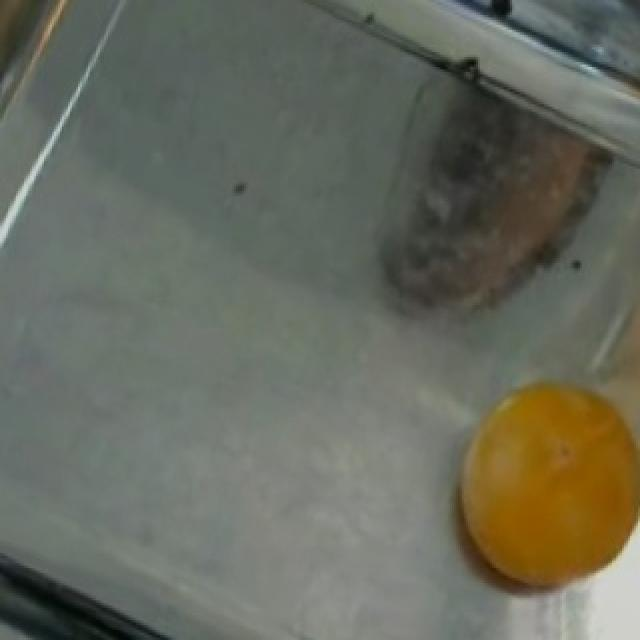Fruit: (436, 372, 640, 608)
